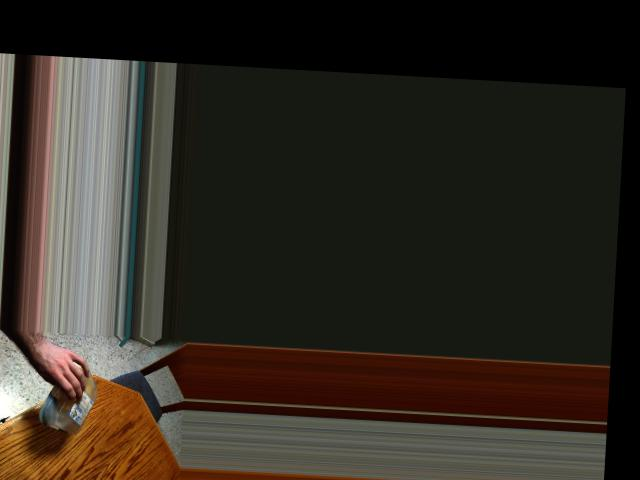cheese: (44, 370, 90, 431)
